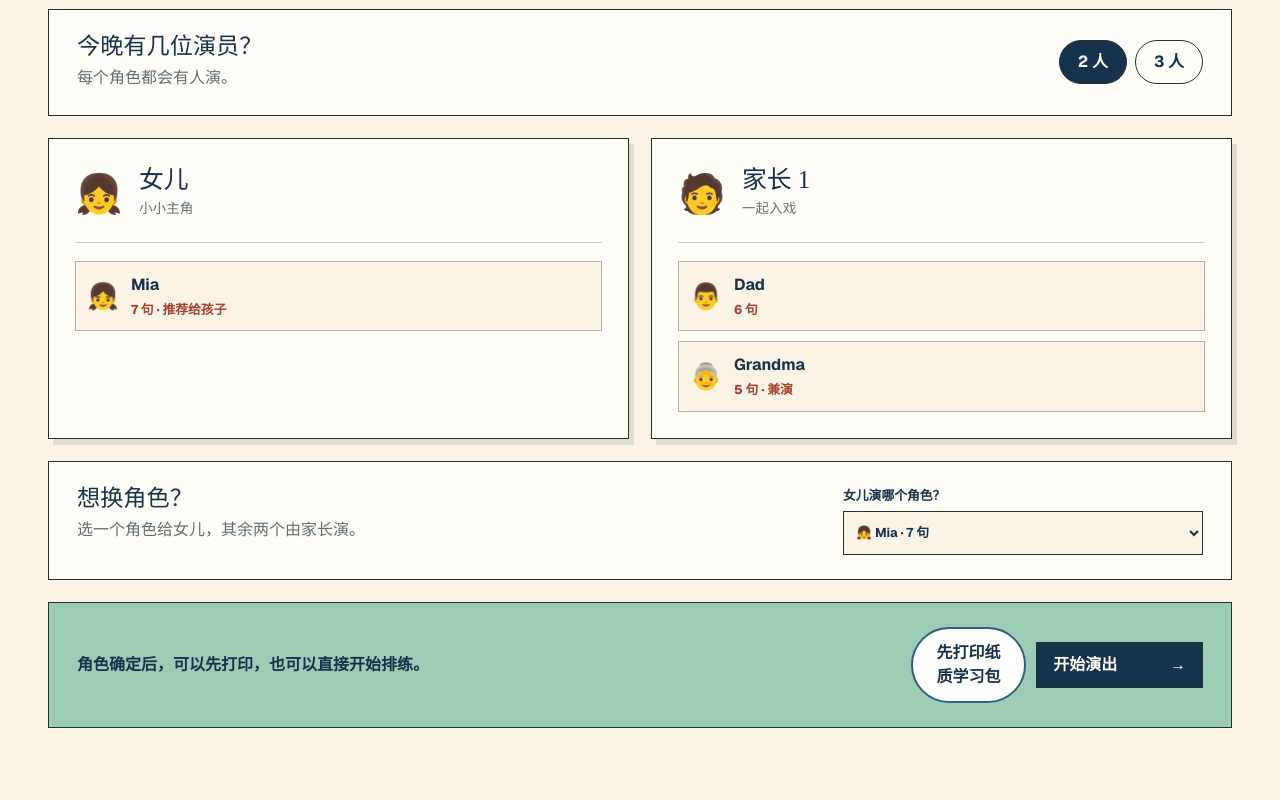
Scenario: StoryStage family story flow › opens the paper learning pack directly from role assignment
The image size is (1280, 800).
(page scrolled)
Click the button "先打印纸质学习包" at (969, 665), box [911,627,1026,703]
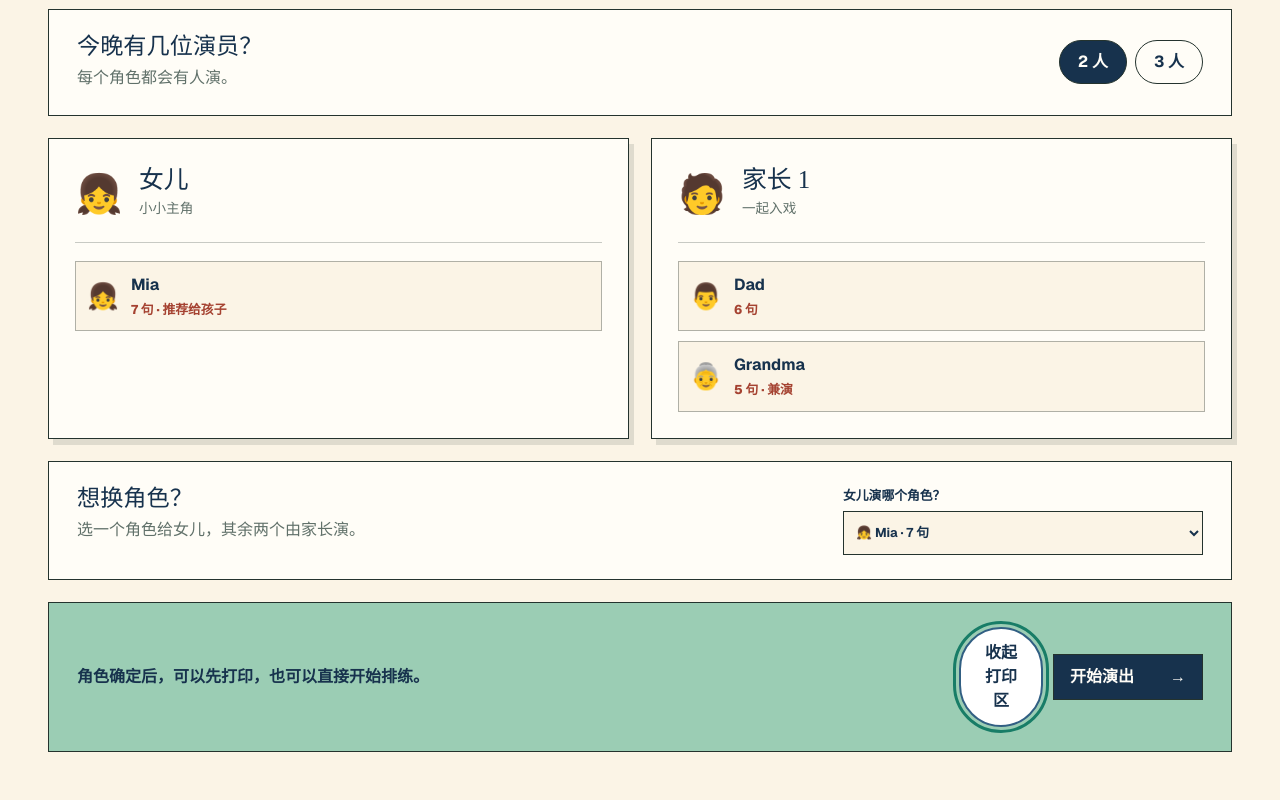
Now the button "收起打印区" is shown, box [959,627,1043,727]
